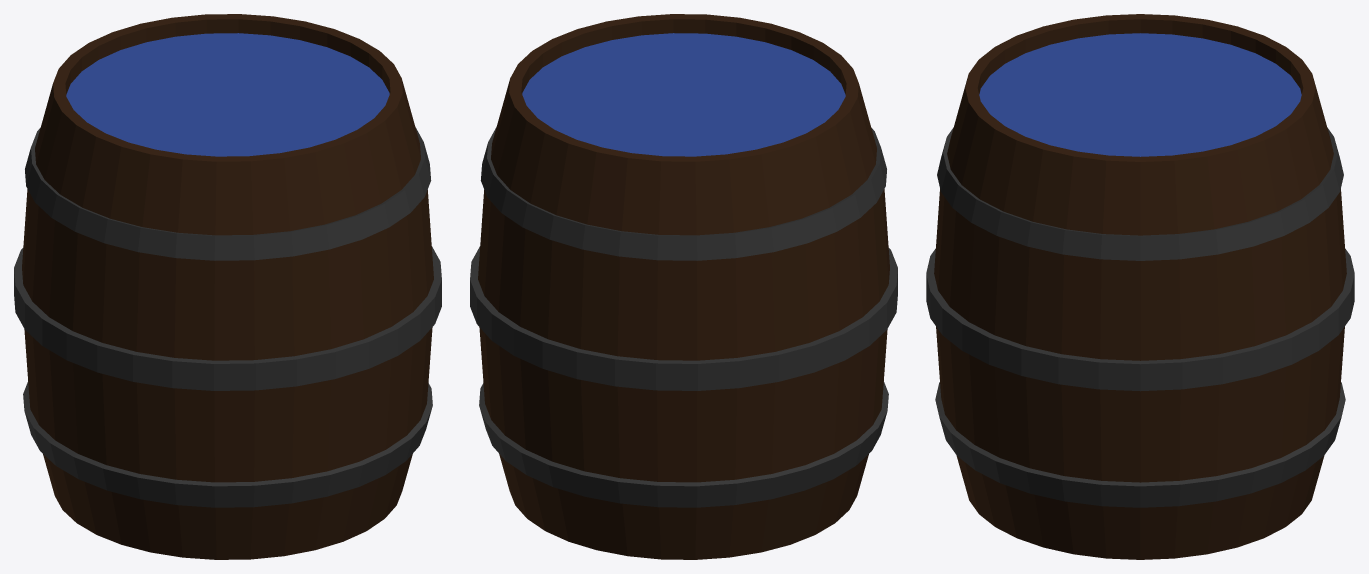
Rendered from WaterBarrelfbx.fbx.
3 views of the same model, side by side, from view 1: azimuth 30°, elevation 25°; view 2: azimuth 150°, elevation 25°; view 3: azimuth 270°, elevation 25° (orthographic).
Visible parts, largest first — view 1: Barrel; view 2: Barrel; view 3: Barrel.
Boxes of the visible parts, x1=… form: Barrel: x1=14, y1=14, x2=441, y2=559; Barrel: x1=470, y1=14, x2=897, y2=559; Barrel: x1=926, y1=14, x2=1354, y2=559.
Size of the model in its own units: 341 by 350 by 341.
